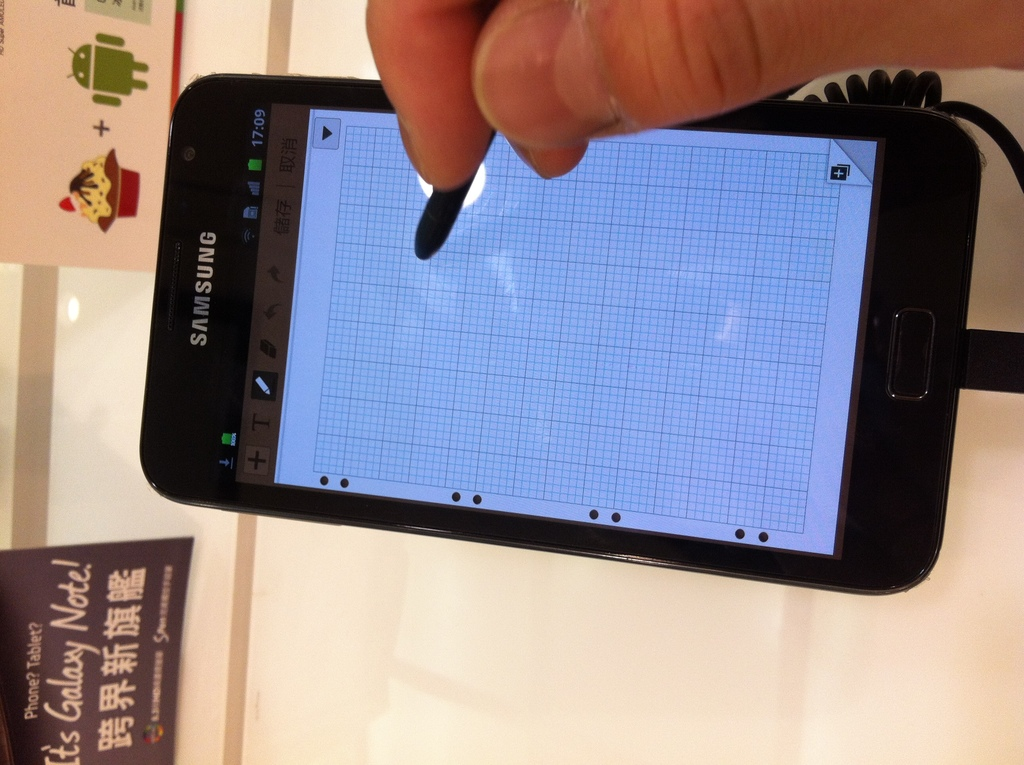Mobile-phone: (141, 70, 981, 595)
